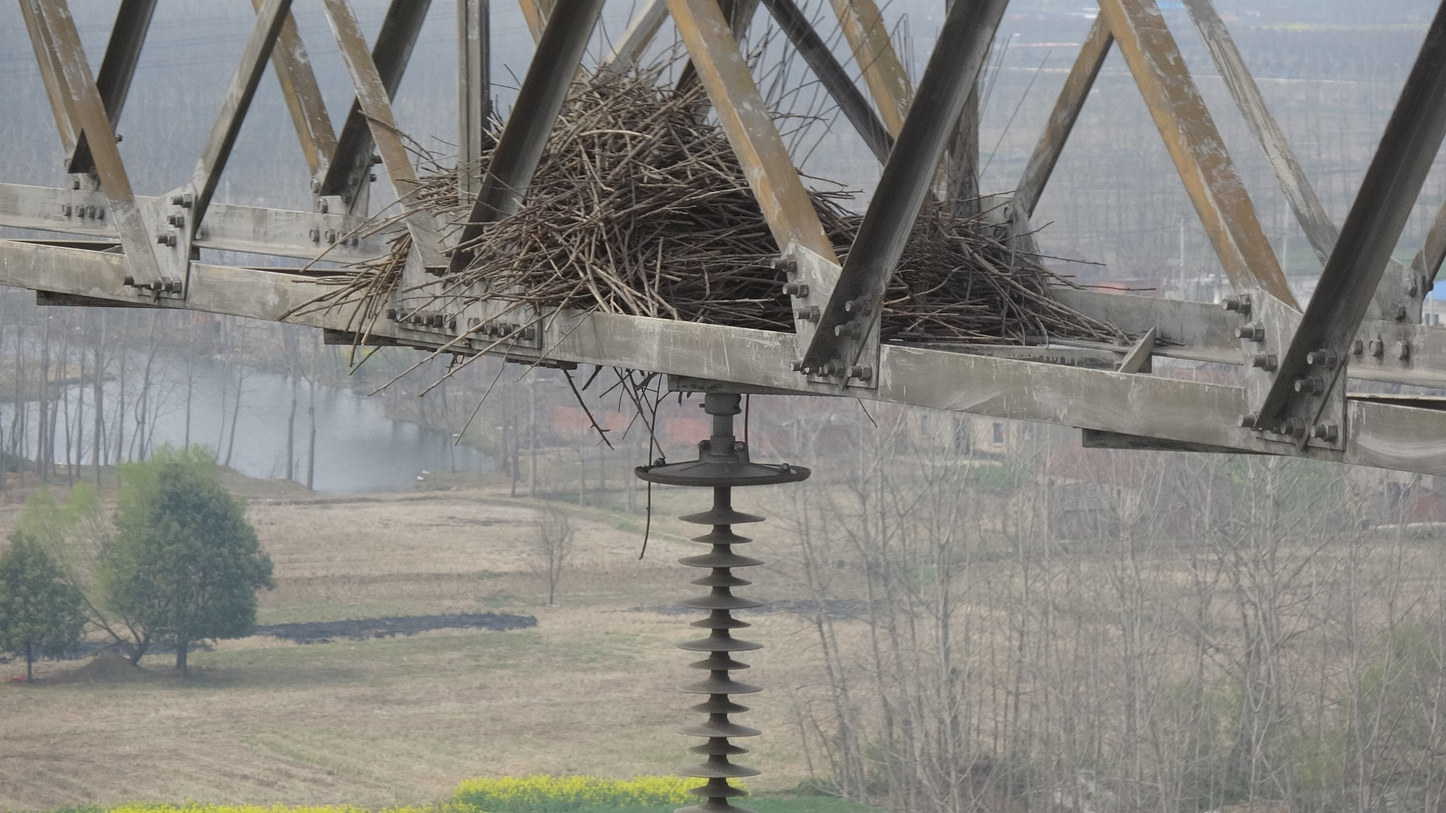insulator: (670, 504, 770, 813)
